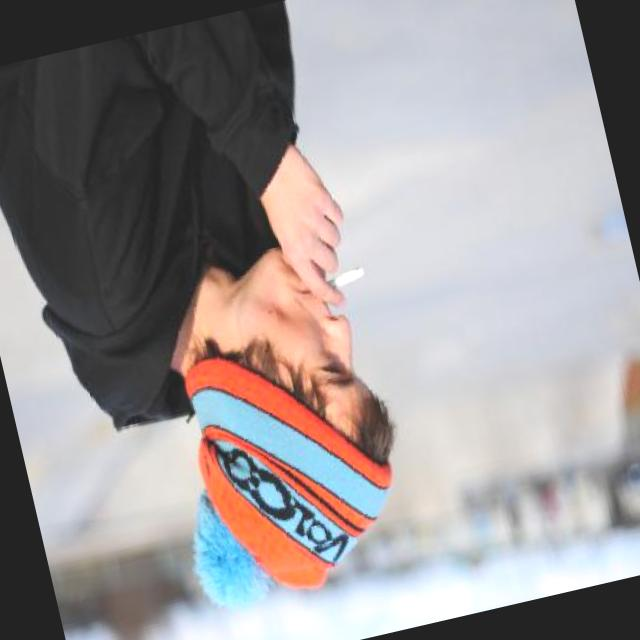cigarette: (299, 252, 372, 305)
